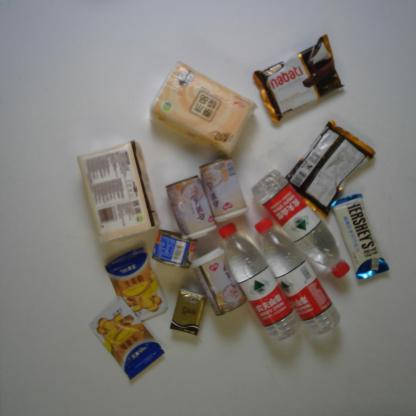Canned Food: (192, 241, 248, 317), (165, 171, 216, 242), (198, 158, 248, 223), (151, 228, 196, 269)
Chocolate: (329, 187, 390, 283)
Dessert: (284, 116, 377, 222), (252, 34, 345, 124)
Drink: (212, 218, 304, 346), (252, 167, 355, 281), (254, 213, 341, 339)
Seasoner: (88, 295, 166, 383), (104, 247, 170, 322)
Tissue: (148, 60, 259, 160), (72, 138, 159, 244), (170, 286, 207, 336)
